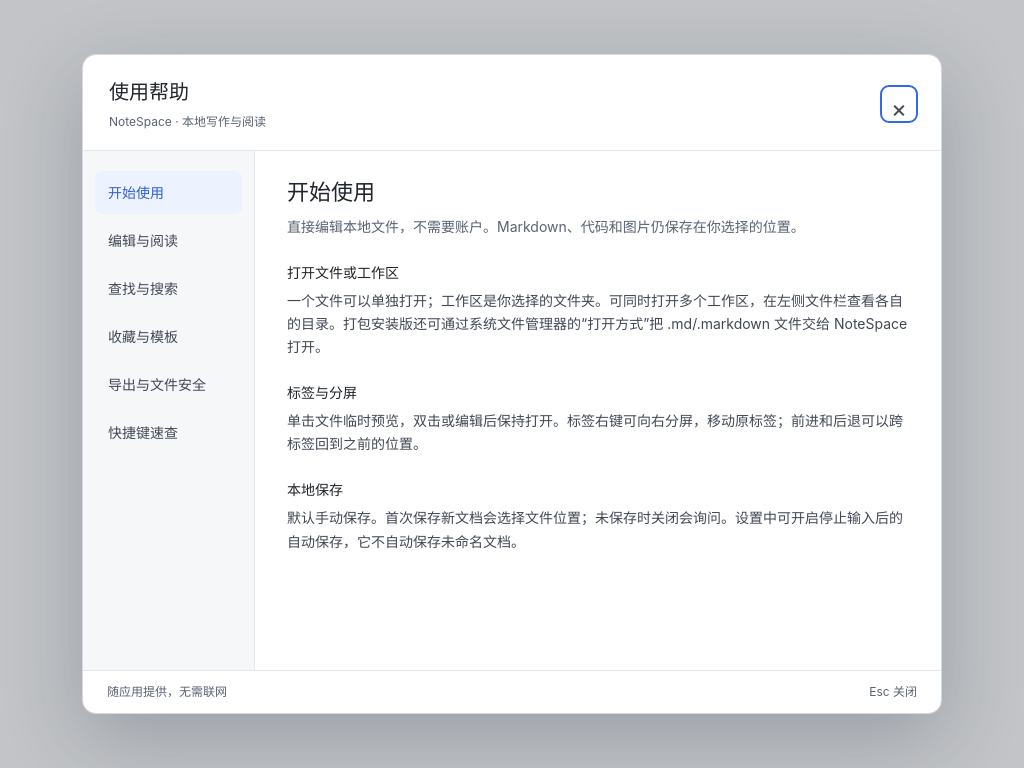
Scenario: HelpDialog › shows actual customized, cleared and default shortcuts on Win32
This screenshot has width=1024, height=768.
Click the button "快捷键速查". click: (168, 433)
box: [95,411,242,454]
(page scrolled)
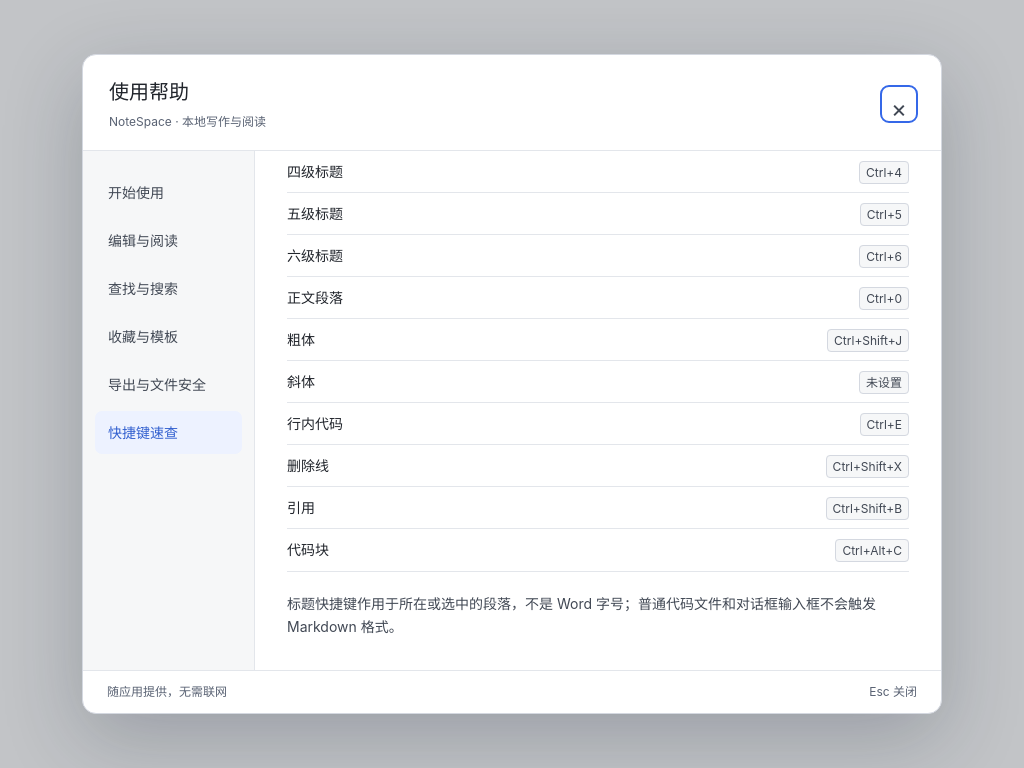
Now the element showing "Ctrl+Shift+J" is shown, box [827,328,909,351]
Now the element showing "未设置" is shown, box [859,370,909,393]
Now the text "标题快捷键作用于所在或选中的段落，不是 Word 字号；普通代码文件和对话框输入框不会触发 Markdown 格式。" is shown, box [287,592,909,638]
